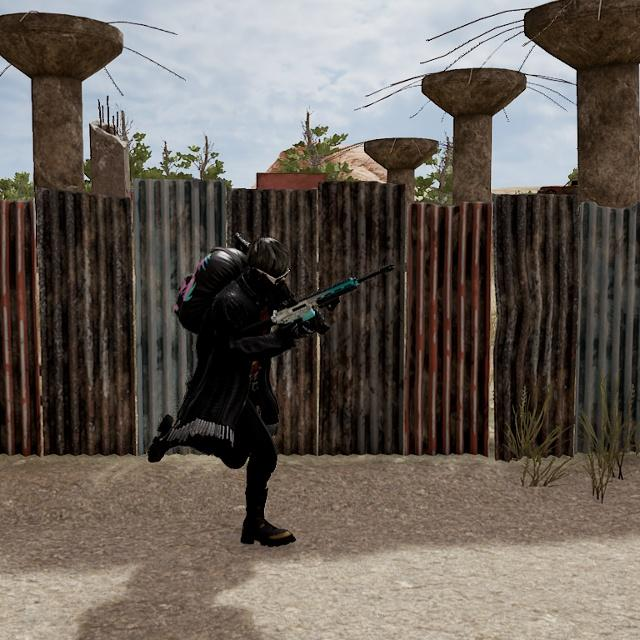head: (243, 232, 295, 293)
people: (148, 231, 316, 551)
